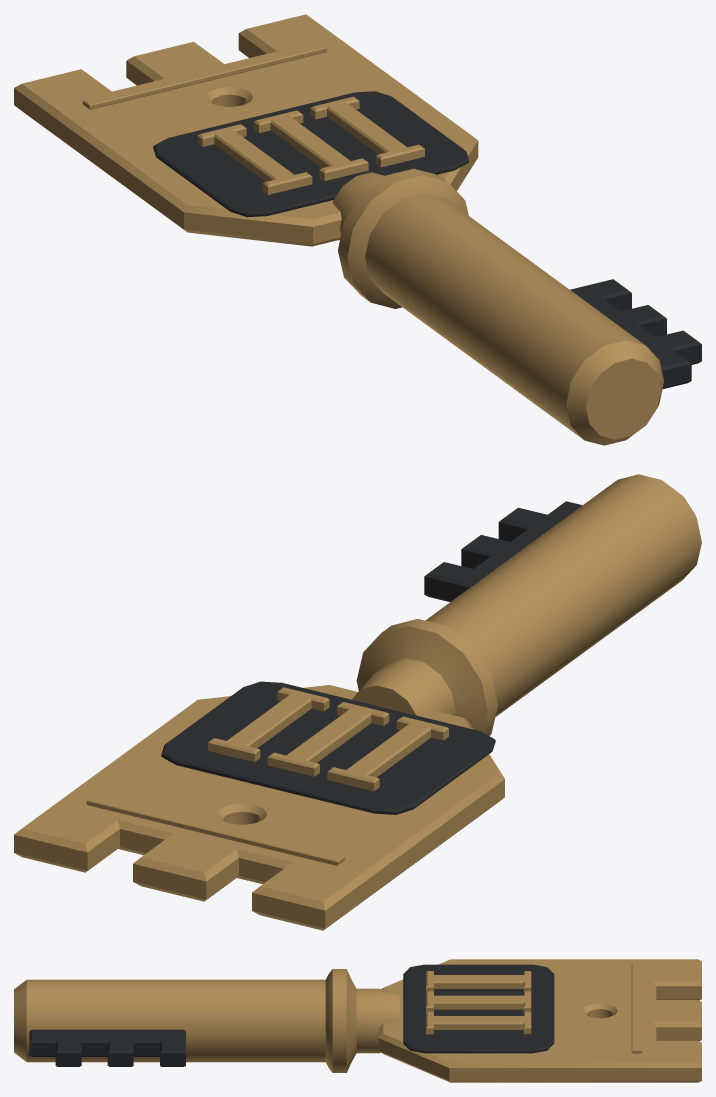
Rendered from tower_key_3.glb.
3 renders of one model, top to bottom at view 1: azimuth 30°, elevation 25°; view 2: azimuth 150°, elevation 25°; view 3: azimuth 270°, elevation 25°, orthographic. The views are drawn at different scales.
Parts seen in each view (by area): view 1: tower_key_3, key_bit; view 2: tower_key_3, key_bit; view 3: tower_key_3, key_bit.
Part boxes in pixels (x1,y1,x2,y2): tower_key_3: (14, 14, 663, 445); key_bit: (153, 91, 701, 388); tower_key_3: (14, 474, 701, 930); key_bit: (161, 501, 582, 814); tower_key_3: (14, 959, 701, 1082); key_bit: (29, 964, 554, 1066).
Size of the model in its own units: 0.036 by 0.0148 by 0.098.
